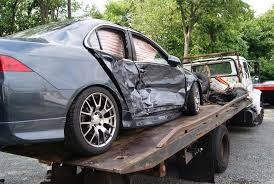Smashed: (107, 56, 186, 124)
